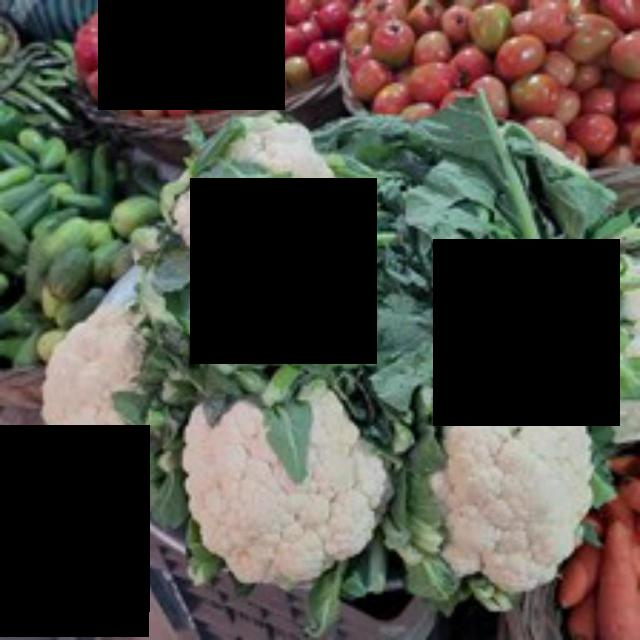cauliflower: (182, 378, 396, 622), (168, 124, 373, 359), (433, 387, 603, 581), (38, 295, 144, 478)
